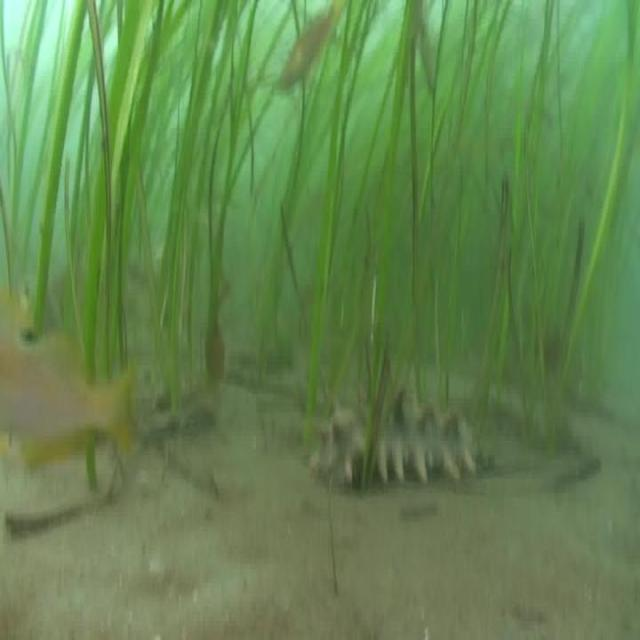holothurian: (317, 393, 487, 479)
